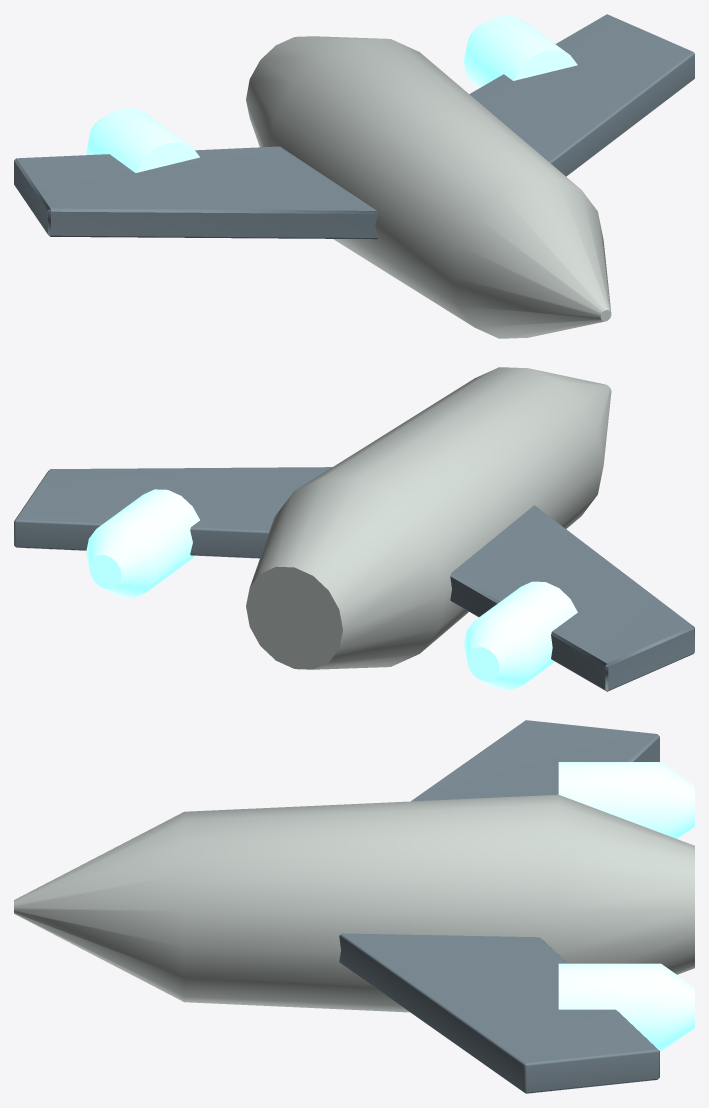
The model's file is drone.glb.
3 views of the same model, one above another, from view 1: azimuth 30°, elevation 25°; view 2: azimuth 150°, elevation 25°; view 3: azimuth 270°, elevation 25° (orthographic). The views are drawn at different scales.
Visible parts, largest first — view 1: drone / Ivory ceramic, drone / Machined titanium, drone / Ion exhaust; view 2: drone / Ivory ceramic, drone / Machined titanium, drone / Ion exhaust; view 3: drone / Ivory ceramic, drone / Machined titanium, drone / Ion exhaust.
Part boxes in pixels (bbox=[...]): drone / Ivory ceramic: bbox=[246, 36, 611, 338]; drone / Machined titanium: bbox=[14, 14, 694, 239]; drone / Ion exhaust: bbox=[86, 16, 577, 172]; drone / Ivory ceramic: bbox=[246, 367, 611, 669]; drone / Machined titanium: bbox=[14, 467, 694, 691]; drone / Ion exhaust: bbox=[86, 489, 577, 689]; drone / Ivory ceramic: bbox=[14, 794, 694, 1012]; drone / Machined titanium: bbox=[339, 720, 659, 1093]; drone / Ion exhaust: bbox=[558, 762, 694, 1051].
Bounding box in the file's own units: 23.96 × 6.6 × 20.
